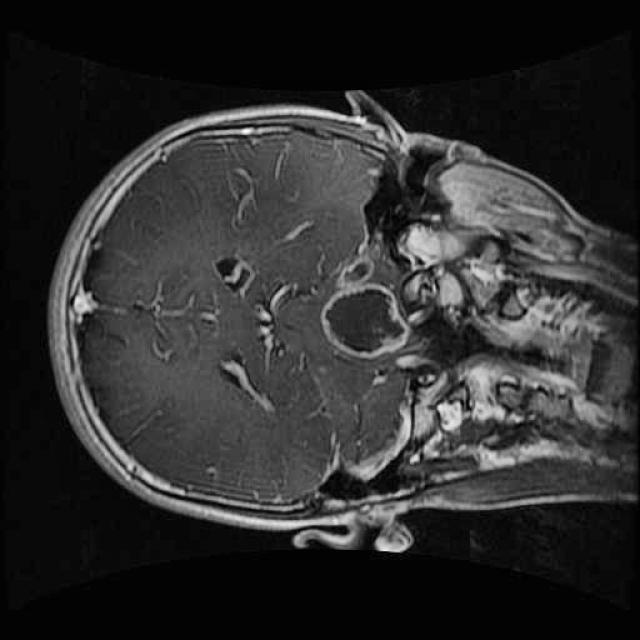Non-Tumor: (314, 231, 424, 375)
